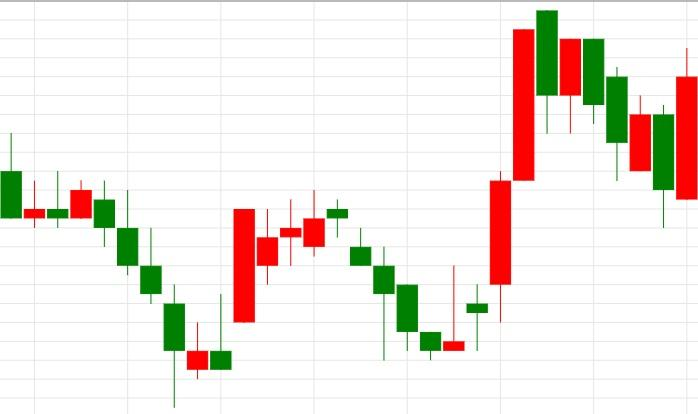evening_star_fall: (211, 189, 371, 370)
inverse_hammer_rise: (94, 181, 208, 408)
